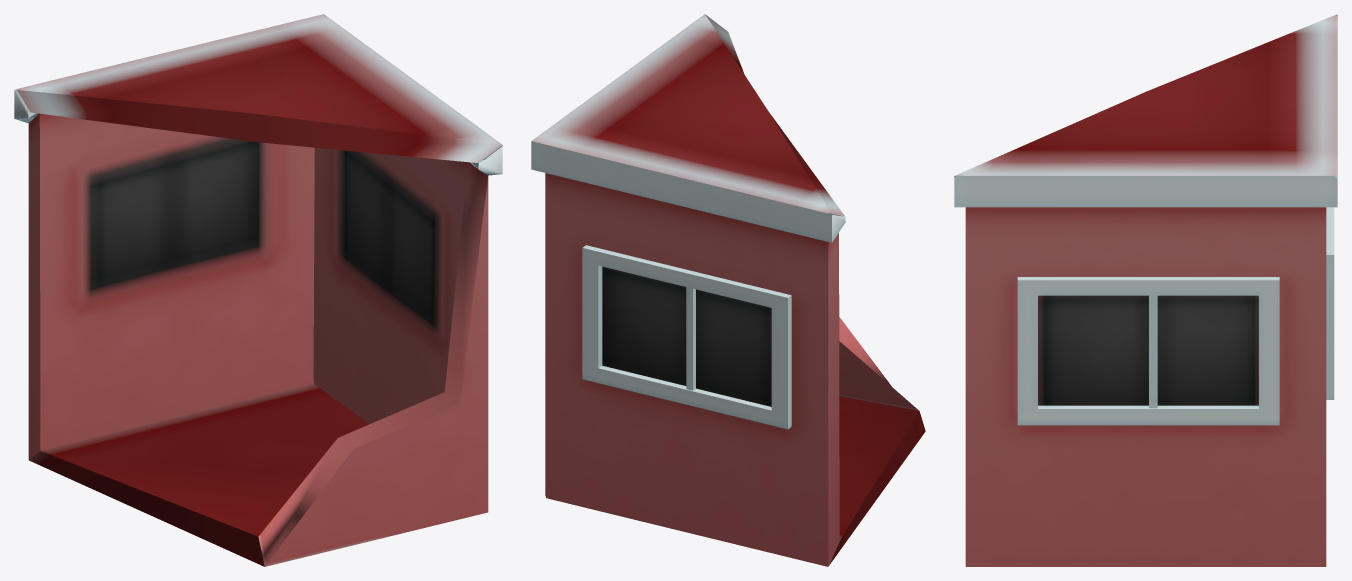
File: B10Broke02.FBX
3 renders of one model, left to right at view 1: azimuth 30°, elevation 25°; view 2: azimuth 150°, elevation 25°; view 3: azimuth 270°, elevation 25°, orthographic. The views are drawn at different scales.
Parts seen in each view (by area): view 1: B10Broke02; view 2: B10Broke02; view 3: B10Broke02.
Part boxes in pixels (x1,y1,x2,y2): B10Broke02: (14, 14, 502, 566); B10Broke02: (531, 14, 925, 566); B10Broke02: (954, 14, 1337, 566).
Bounding box in the file's own units: 35.63 × 40.91 × 35.63.
